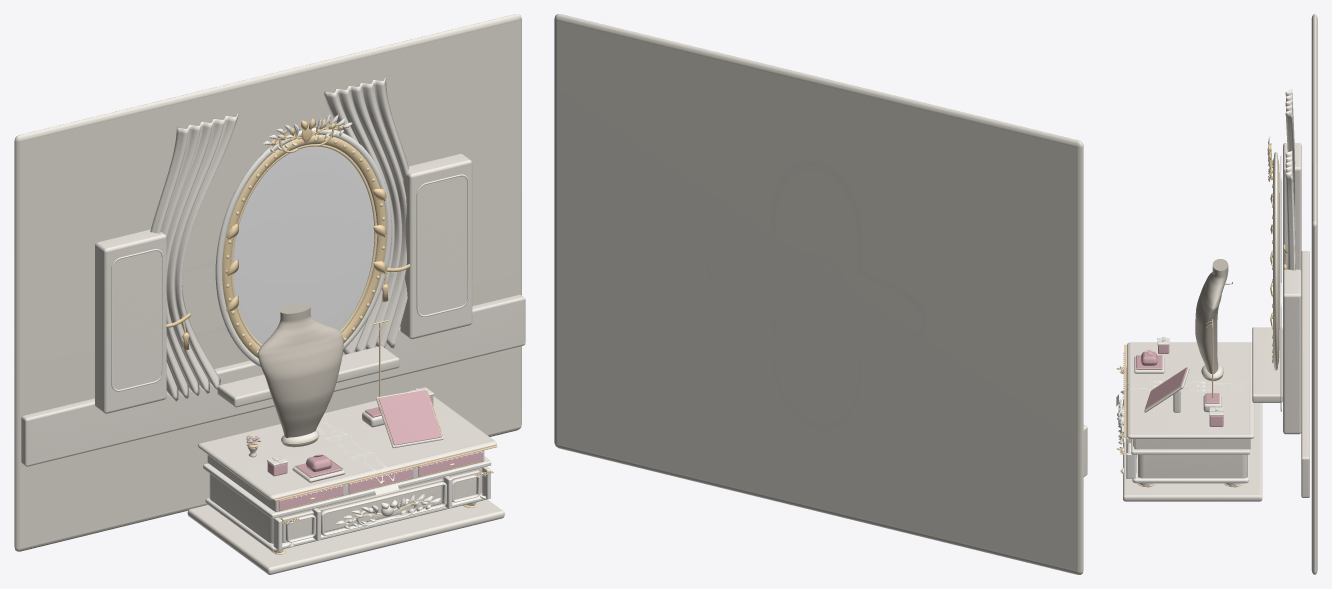
File: main-display-scene.glb
3 views of the same model, side by side, from view 1: azimuth 30°, elevation 25°; view 2: azimuth 150°, elevation 25°; view 3: azimuth 270°, elevation 25° (orthographic). The views are drawn at different scales.
Visible parts, largest first — view 1: Fixed_Background_06 | warm oyster wall, Fixed_Background_01 | warm ivory lacquer, Fixed_01 | warm ivory lacquer, Fixed_Background_16 | softened silver mirror, Fixed_Background_08 | pale warm drapery, Fixed_Display | warm ivory velvet, Fixed_02 | ivory carved edges, Fixed_Background_04 | satin champagne brass, Fixed_Background_02 | ivory carved edges, Fixed_Display | pale blush suede, Fixed_07 | dusty blush silk, Fixed_Background_05 | champagne polished accents (+2 smaller); view 2: Fixed_Background_06 | warm oyster wall; view 3: Fixed_01 | warm ivory lacquer, Fixed_Background_01 | warm ivory lacquer, Fixed_Background_06 | warm oyster wall, Fixed_02 | ivory carved edges, Fixed_Display | warm ivory velvet, Fixed_Background_08 | pale warm drapery, Fixed_Background_02 | ivory carved edges, Fixed_Display | pale blush suede, Fixed_Background_04 | satin champagne brass, Fixed_04 | satin champagne brass, Fixed_09 | floral ecru lace cutout, Fixed_07 | dusty blush silk.
Boxes of the visible parts, x1,y1,x2,y2 form: Fixed_Background_06 | warm oyster wall: [14, 14, 521, 551]; Fixed_Background_01 | warm ivory lacquer: [21, 114, 525, 466]; Fixed_01 | warm ivory lacquer: [187, 389, 504, 574]; Fixed_Background_16 | softened silver mirror: [233, 146, 374, 344]; Fixed_Background_08 | pale warm drapery: [150, 76, 408, 401]; Fixed_Display | warm ivory velvet: [257, 304, 343, 437]; Fixed_02 | ivory carved edges: [203, 387, 491, 551]; Fixed_Background_04 | satin champagne brass: [166, 117, 410, 358]; Fixed_Background_02 | ivory carved edges: [111, 115, 468, 391]; Fixed_Display | pale blush suede: [296, 390, 441, 477]; Fixed_07 | dusty blush silk: [267, 395, 482, 510]; Fixed_Background_05 | champagne polished accents: [225, 138, 385, 354]; Fixed_Background_06 | warm oyster wall: [554, 14, 1083, 574]; Fixed_01 | warm ivory lacquer: [1118, 342, 1262, 501]; Fixed_Background_01 | warm ivory lacquer: [1252, 136, 1309, 497]; Fixed_Background_06 | warm oyster wall: [1311, 14, 1317, 574]; Fixed_02 | ivory carved edges: [1117, 338, 1249, 483]; Fixed_Display | warm ivory velvet: [1195, 259, 1232, 373]; Fixed_Background_08 | pale warm drapery: [1285, 89, 1295, 270]; Fixed_Background_02 | ivory carved edges: [1268, 137, 1281, 411]; Fixed_Display | pale blush suede: [1136, 350, 1219, 408]; Fixed_Background_04 | satin champagne brass: [1267, 143, 1287, 364]; Fixed_04 | satin champagne brass: [1117, 344, 1242, 486]; Fixed_09 | floral ecru lace cutout: [1116, 381, 1245, 406]; Fixed_07 | dusty blush silk: [1133, 345, 1223, 446].
Size of the model in its own units: 0.7703 by 0.6045 by 0.3114.
15 materials, 5 textured.
